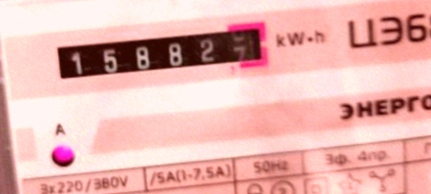1: (67, 51, 83, 77)
2: (196, 38, 213, 63)
5: (98, 47, 117, 74)
7: (230, 43, 245, 63)
8: (131, 45, 150, 72), (164, 41, 181, 68)
screen: (39, 14, 276, 96)
